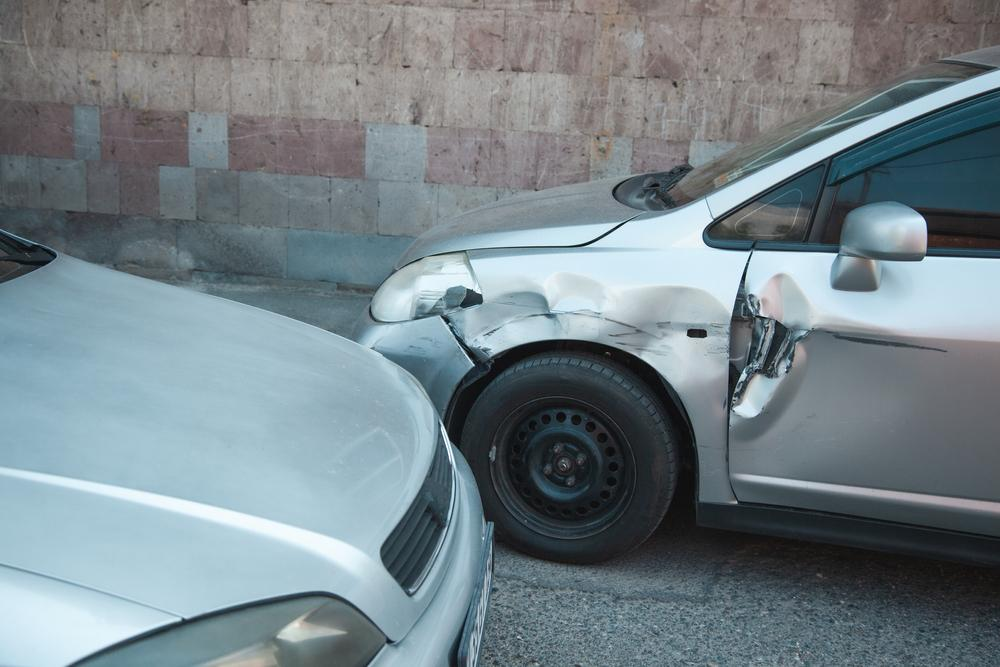crack: (757, 319, 788, 378)
dent: (462, 272, 732, 389), (734, 269, 910, 438)
lamp broken: (370, 249, 486, 322)
